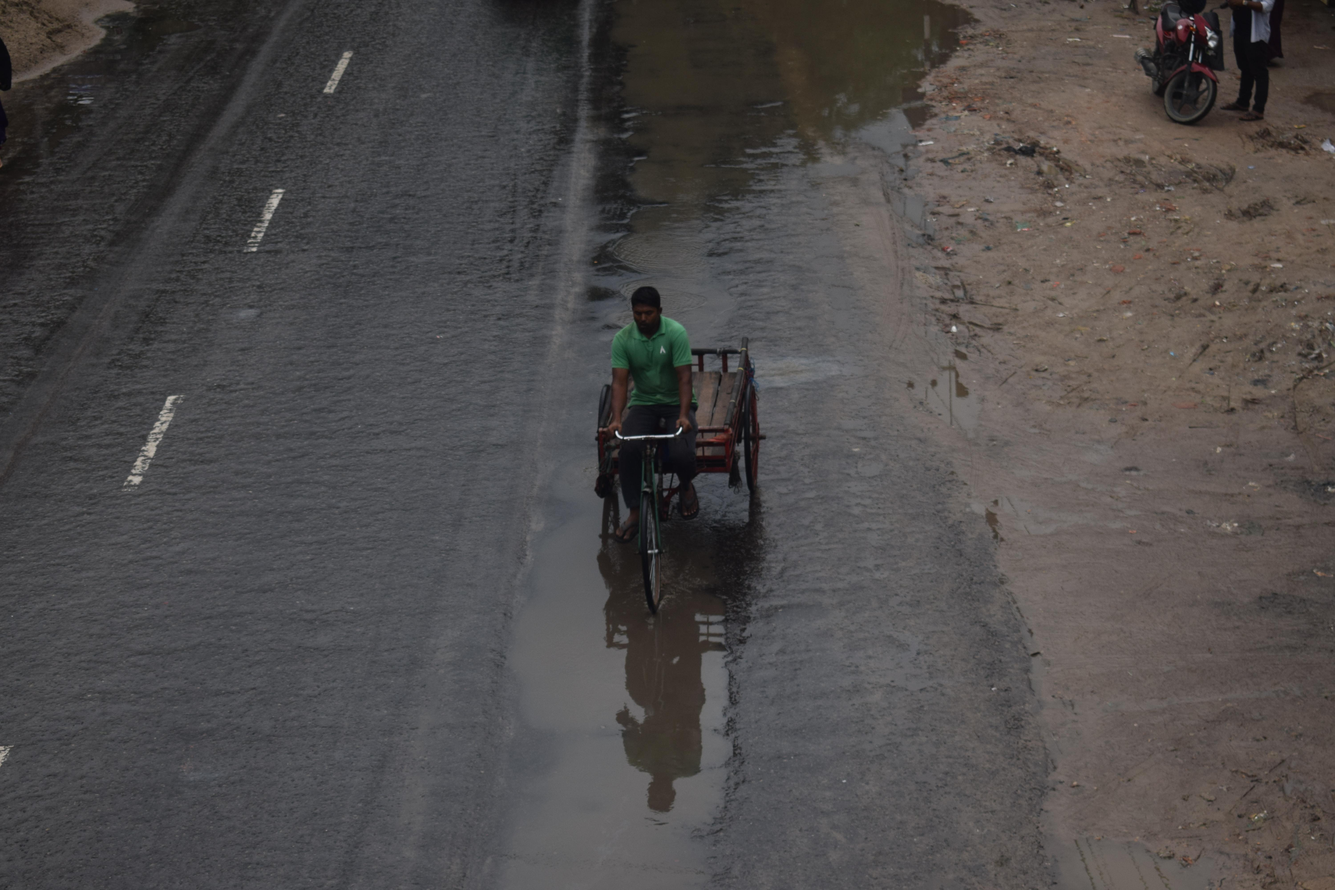Car: (523, 214, 837, 681)
